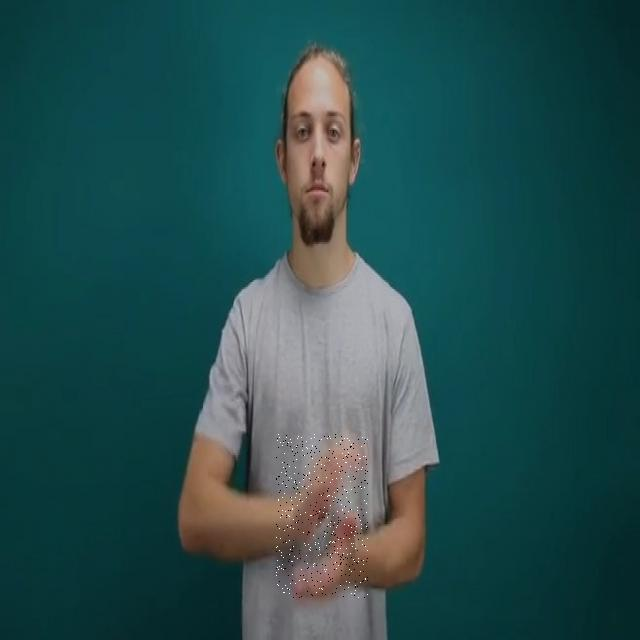cheese: (276, 434, 368, 598)
